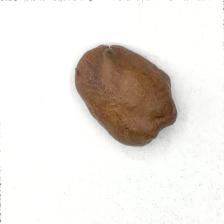NG: (148, 73, 178, 147)
